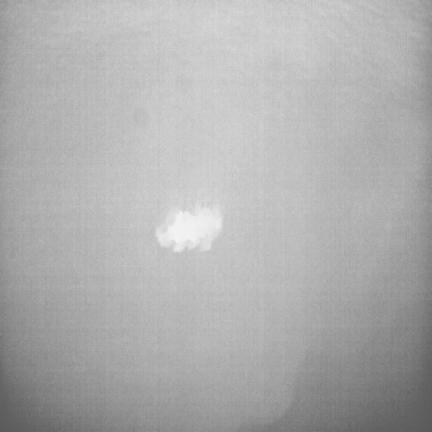flukeprints: (156, 204, 223, 251)
